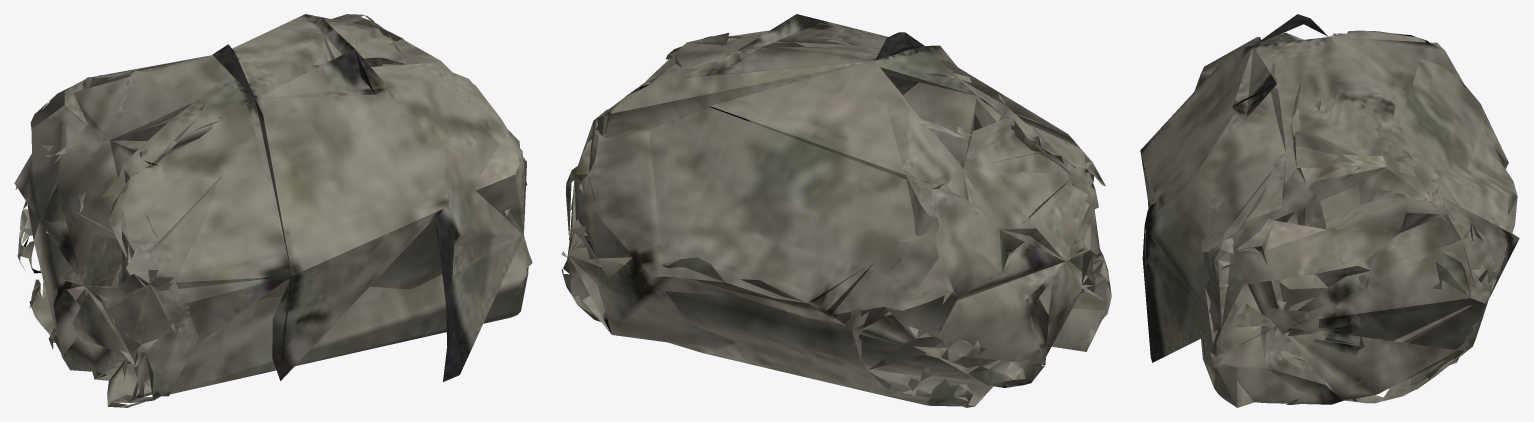
Rendered from sandbags_285817317_lod0.glb.
The picture shows the model from 3 angles, left to right: view 1: azimuth 30°, elevation 25°; view 2: azimuth 150°, elevation 25°; view 3: azimuth 270°, elevation 25°; orthographic projection. The views are drawn at different scales.
Bounding box in the file's own units: 2.6 × 1.8 × 2.19.
Materials: 1 (1 with a texture image).
